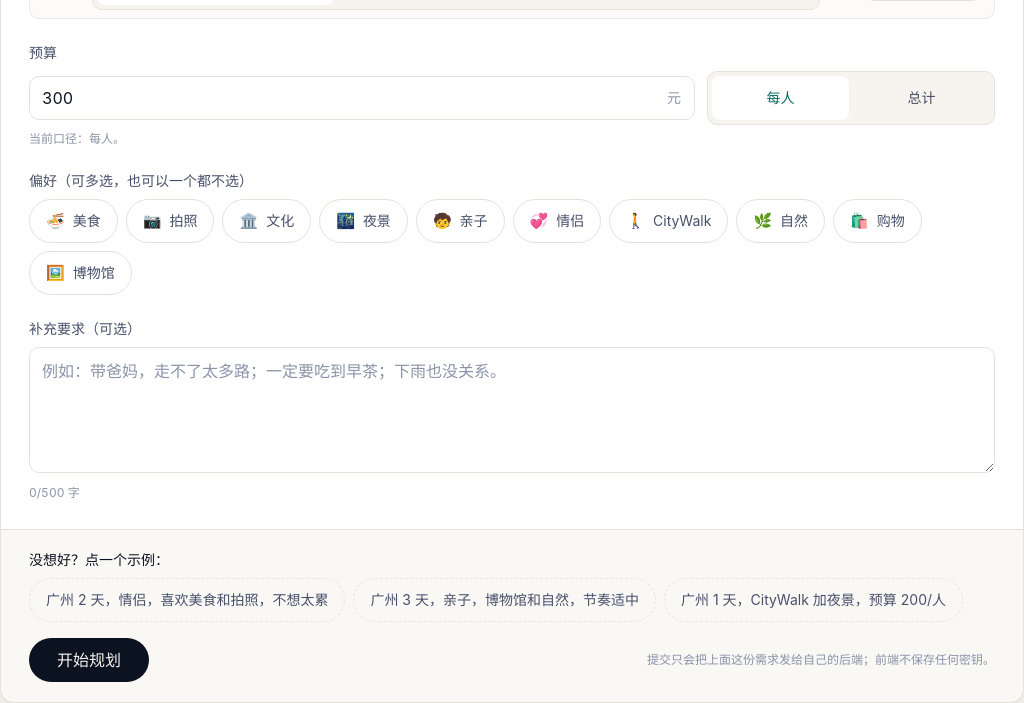
Test case: PlannerForm 区分「接口没实现」与「输入被拒绝」 › HTTP 404：说是「后端没有这个接口」（M4 已完成，不该再叫用户等）
(page scrolled)
Click the button "开始规划" at (89, 660), box [29, 638, 149, 682]
(page scrolled)
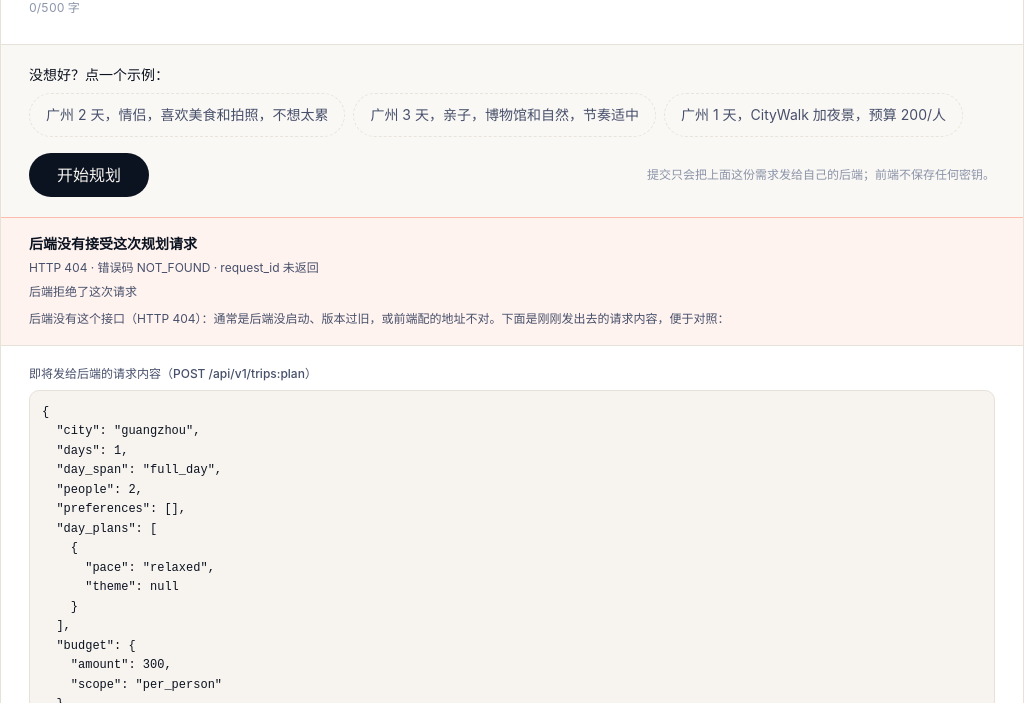
Result: the text "后端没有这个接口（HTTP 404）" is shown at [29, 311, 730, 326]
